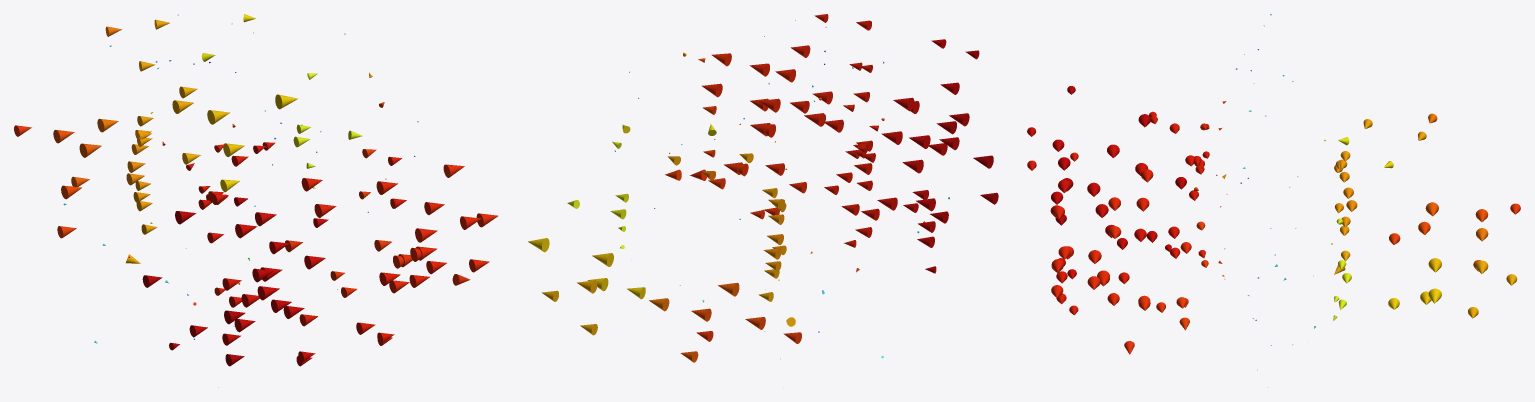
Rendered from LineasCorrienteH2-O2_mh2-2.70_V-1.glb.
3 views of the same model, side by side, from view 1: azimuth 30°, elevation 25°; view 2: azimuth 150°, elevation 25°; view 3: azimuth 270°, elevation 25° (orthographic). The views are drawn at different scales.
Size of the model in its own units: 0.000903 by 0.000948 by 0.00123.
2 materials, 2 textured.
